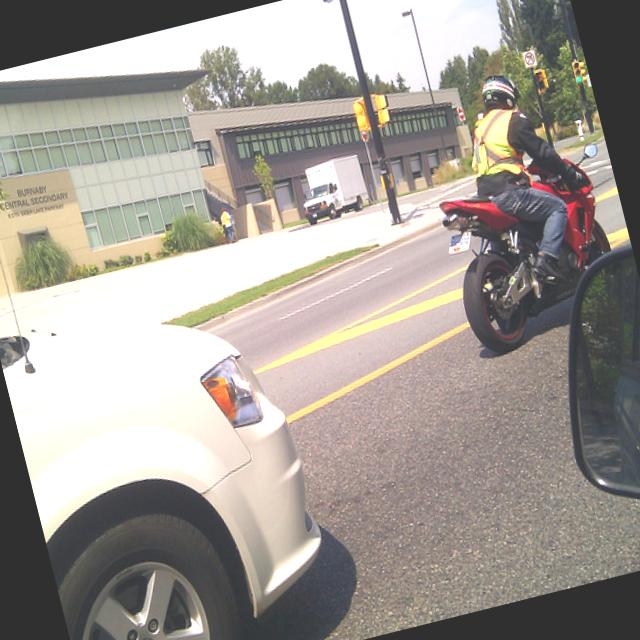Vehicle: (0, 217, 356, 640), (439, 184, 579, 368), (566, 252, 640, 517), (291, 151, 372, 229)
